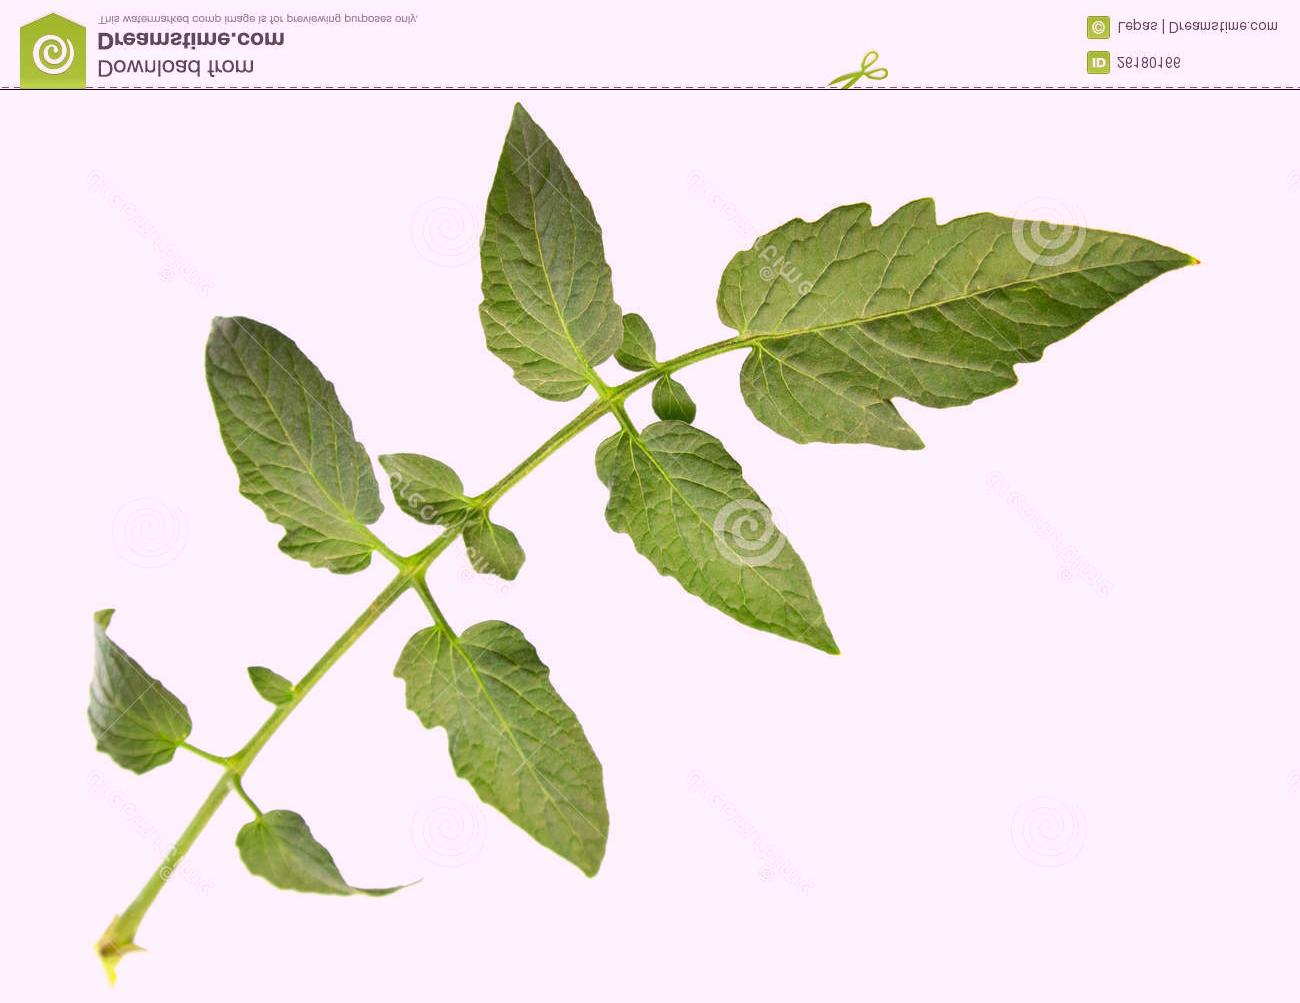Tomato leaf: (730, 127, 1216, 476), (339, 588, 661, 913), (414, 99, 705, 421), (135, 293, 401, 589), (602, 398, 873, 671), (232, 776, 419, 932), (57, 590, 210, 780)
